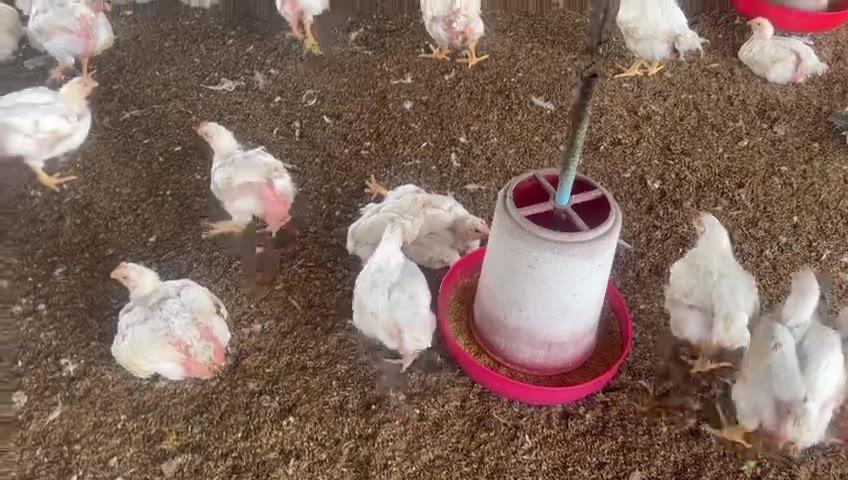AbNormal: (113, 261, 227, 380), (364, 176, 488, 268), (738, 18, 827, 84), (349, 195, 434, 263)
Normal: (708, 268, 845, 447), (667, 207, 760, 369), (195, 122, 293, 239), (0, 74, 99, 189), (353, 222, 431, 366), (613, 0, 703, 76), (27, 0, 114, 76), (419, 0, 490, 68), (274, 0, 330, 58)
